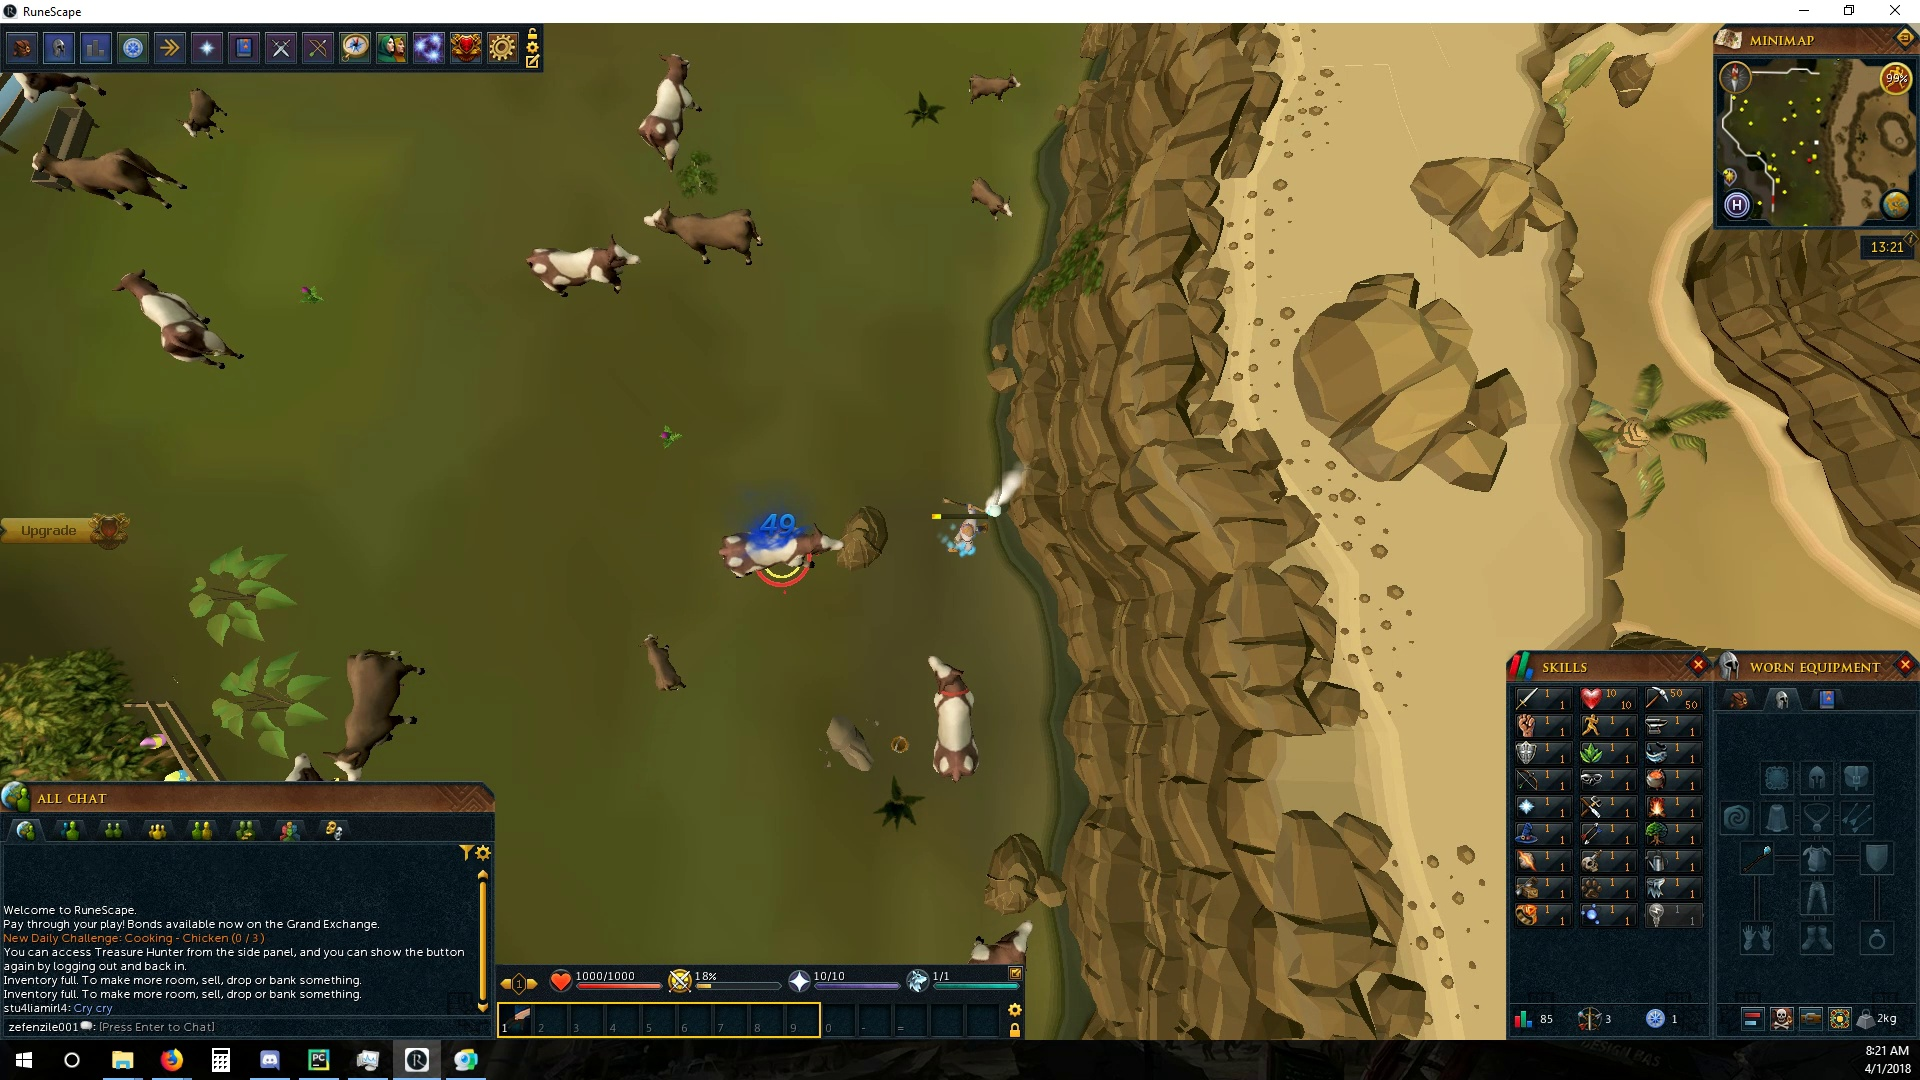calf: (638, 632, 688, 698), (181, 86, 232, 149), (967, 175, 1018, 222), (964, 71, 1022, 108)
cow: (115, 266, 247, 375), (324, 649, 429, 781), (26, 146, 193, 212), (634, 47, 705, 173), (716, 518, 848, 582), (526, 231, 642, 302), (924, 651, 985, 785), (638, 204, 761, 269)
